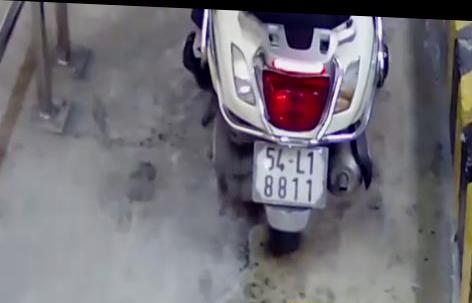License_Plate: (243, 135, 332, 216)
